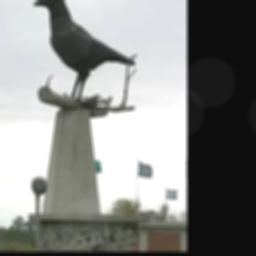Crow: (33, 0, 137, 104)
